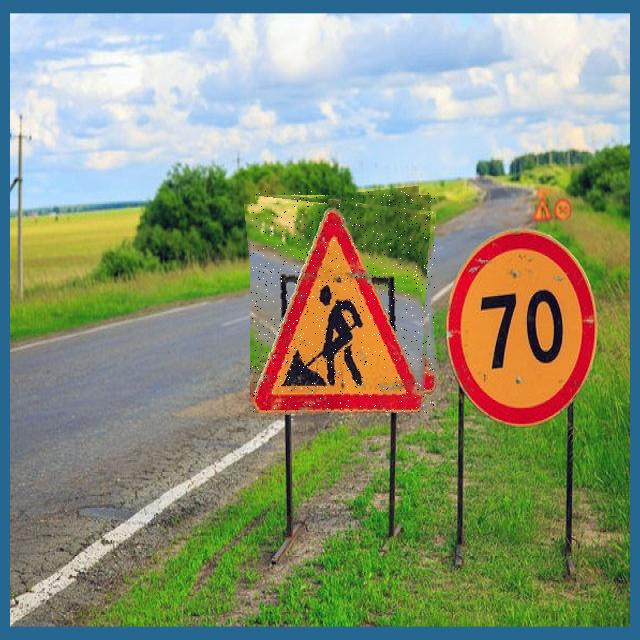roadwork: (250, 191, 436, 413)
